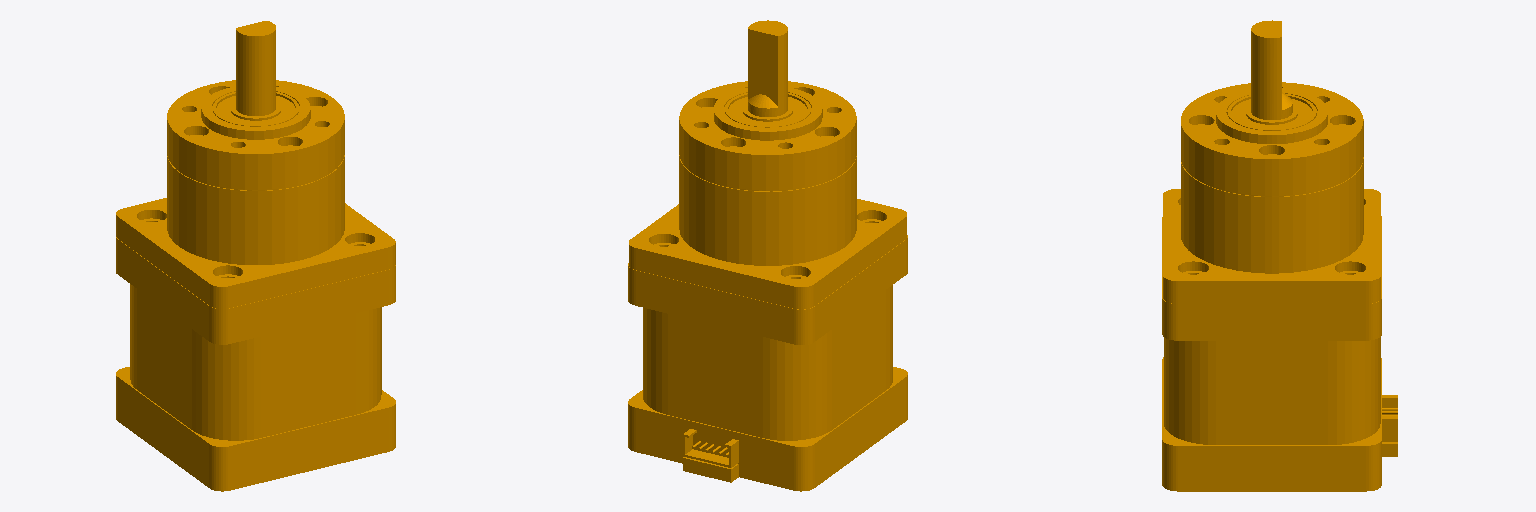
The robot description file, URDF, robot "motor_2_L0.67_T0.64":
<?xml version="1.0" encoding="utf-8"?>
<robot name="motor_2_L0.67_T0.64">
  <link name="motor_2_L0.67_T0.64Link">
    <contact>
      <lateral_friction value="1"/>
    </contact>
    <inertial>
      <origin rpy="0 0 0" xyz="0 0 0"/>
      <mass value="0.0"/>
      <inertia ixx="0" ixy="0" ixz="0" iyy="0" iyz="0" izz="0"/>
    </inertial>
    <visual>
      <origin rpy="0 0 0" xyz="0 0 0"/>
      <geometry>
        <mesh filename="generated_stl/motor/motor_2/motor_2_L0.67_T0.64/motor_2_L0.67_T0.64.stl" scale="0.01 0.01 0.01"/>
      </geometry>
    </visual>
    <collision>
      <origin rpy="0 0 0" xyz="0 0 0"/>
      <geometry>
        <mesh filename="generated_stl/motor/motor_2/motor_2_L0.67_T0.64/motor_2_L0.67_T0.64.stl" scale="0.01 0.01 0.01"/>
      </geometry>
    </collision>
  </link>
</robot>

--- Render facts (derived) ---
The picture shows the robot from 3 angles, left to right: view 1: azimuth 30°, elevation 25°; view 2: azimuth 150°, elevation 25°; view 3: azimuth 270°, elevation 25°; orthographic projection.
Model motor_2_L0.67_T0.64 with 1 links and 0 joints (none), rooted at motor_2_L0.67_T0.64Link, posed all joints at 0.
Visible links, largest first — view 1: motor_2_L0.67_T0.64Link; view 2: motor_2_L0.67_T0.64Link; view 3: motor_2_L0.67_T0.64Link.
Link boxes in pixels (x1=…): motor_2_L0.67_T0.64Link: x1=116, y1=21, x2=395, y2=491; motor_2_L0.67_T0.64Link: x1=628, y1=20, x2=907, y2=491; motor_2_L0.67_T0.64Link: x1=1162, y1=20, x2=1397, y2=491.
Size in the robot's own frame: 0.0225 by 0.0241 by 0.0469 metres.
1 mesh visuals loaded from 1 distinct referenced files (1 binary STL).